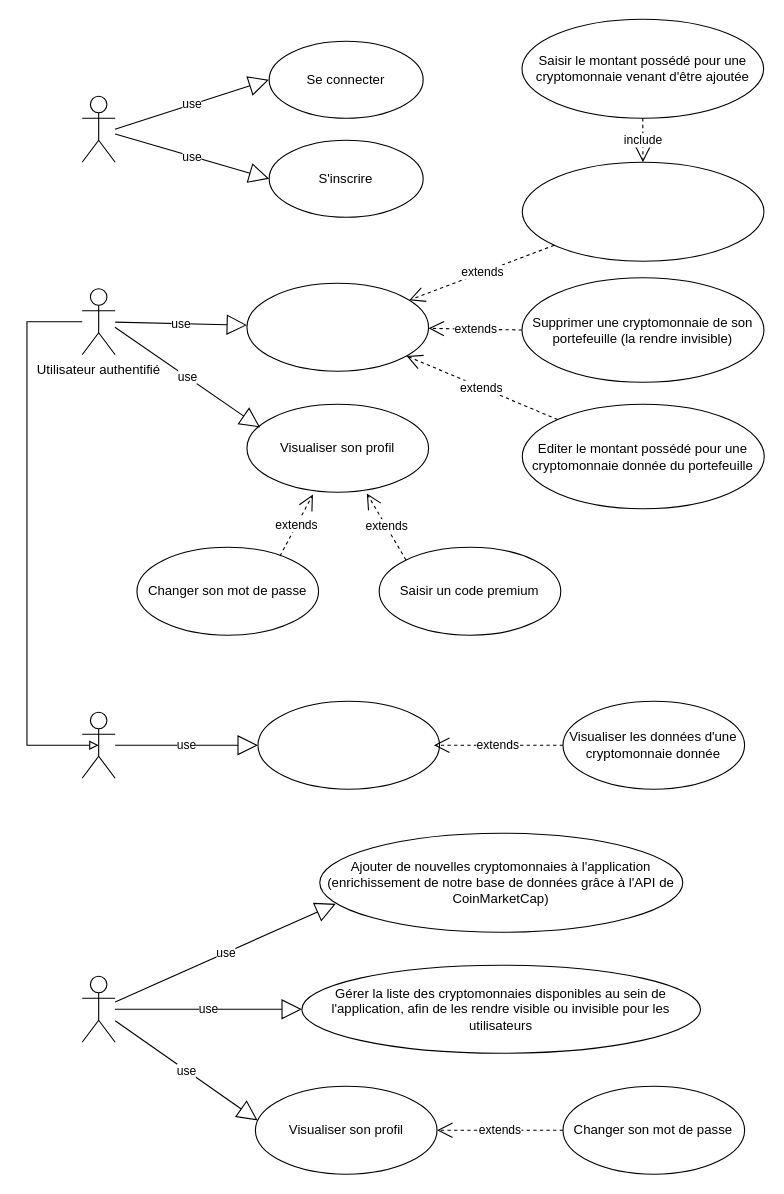
Image size: 784x1194. Some labels were removed from this diagram. Each missing label, with the box of its shape:
Administrateur: (81, 975, 115, 1042)
Ajouter une cryptomonnaie à son portefeuille (la rendre visible): (521, 161, 764, 261)
Utilisateur non authentifié: (81, 95, 115, 162)
Utilisateur premium authentifié: (81, 711, 115, 778)
Visualiser les données du marché: (257, 700, 440, 789)
Visualiser son portefeuille: (246, 282, 429, 371)
